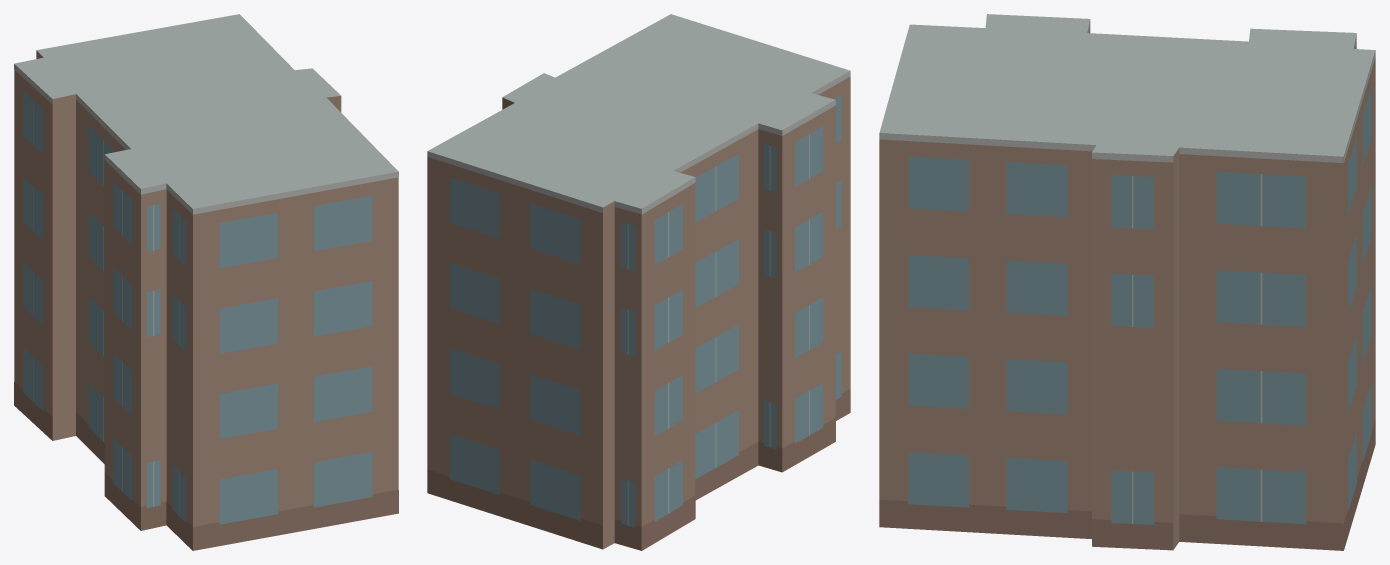
The model's file is survey-upis-32688912.glb.
3 views of the same model, side by side, from view 1: azimuth 30°, elevation 25°; view 2: azimuth 150°, elevation 25°; view 3: azimuth 270°, elevation 25° (orthographic). The views are drawn at different scales.
Parts seen in each view (by area): view 1: survey-upis-32688912.tmp; view 2: survey-upis-32688912.tmp; view 3: survey-upis-32688912.tmp.
Boxes of the visible parts, box(x1,y1,x2,y2) form: survey-upis-32688912.tmp: box(14, 14, 398, 550); survey-upis-32688912.tmp: box(427, 14, 850, 550); survey-upis-32688912.tmp: box(879, 14, 1375, 550).
Size of the model in its own units: 11.5 by 14.8 by 16.9.
